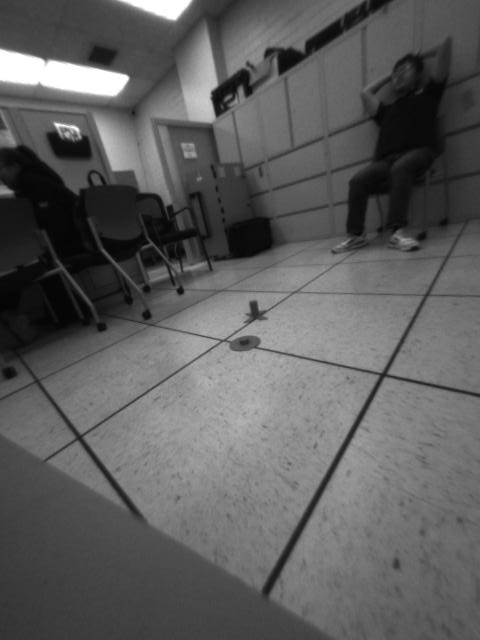X: (242, 299, 269, 325)
